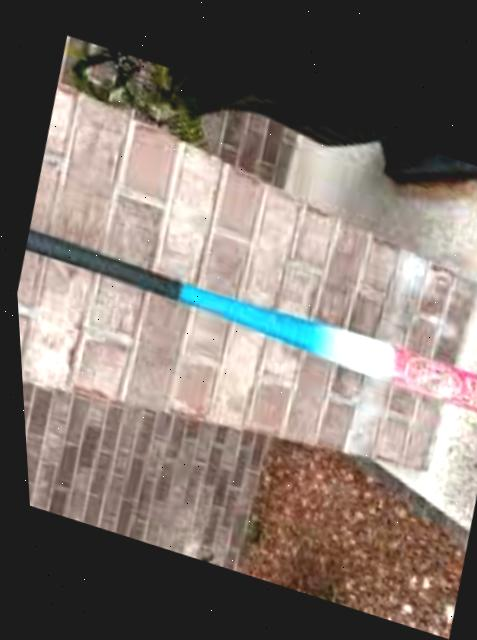baseball bat: (15, 220, 477, 413)
